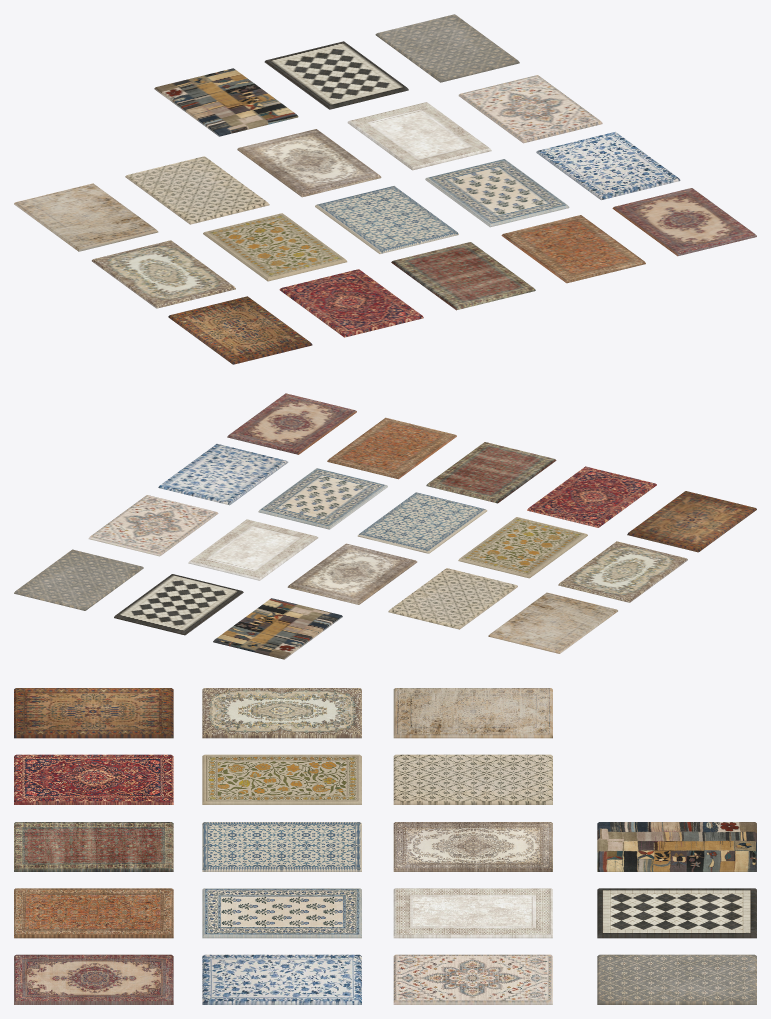
File: low-poly_psx_style_vintage_rugs_pack.glb
3 renders of one model, top to bottom at view 1: azimuth 30°, elevation 25°; view 2: azimuth 150°, elevation 25°; view 3: azimuth 270°, elevation 25°, orthographic. The views are drawn at different scales.
Parts seen in each view (by area): view 1: Vintage Rugs_001, Vintage Rugs_007, Vintage Rugs_011, Vintage Rugs_005, Vintage Rugs_015, Vintage Rugs_004, Vintage Rugs_014, Vintage Rugs_017, Vintage Rugs_018, Vintage Rugs_003, Vintage Rugs_006, Vintage Rugs_008 (+6 smaller); view 2: Vintage Rugs_009, Vintage Rugs_010, Vintage Rugs_002, Vintage Rugs_003, Vintage Rugs_011, Vintage Rugs_013, Vintage Rugs_016, Vintage Rugs_001, Vintage Rugs_004, Vintage Rugs_005, Vintage Rugs_007, Vintage Rugs_008 (+6 smaller); view 3: Vintage Rugs_002, Vintage Rugs_003, Vintage Rugs_007, Vintage Rugs_008, Vintage Rugs_016, Vintage Rugs_012, Vintage Rugs_013, Vintage Rugs_001, Vintage Rugs_005, Vintage Rugs_011, Vintage Rugs_015, Vintage Rugs_018 (+6 smaller).
Boxes of the visible parts, left/top/right/bottom form: Vintage Rugs_001: left=279, top=269, right=423, bottom=337; Vintage Rugs_007: left=91, top=240, right=235, bottom=308; Vintage Rugs_011: left=125, top=156, right=269, bottom=224; Vintage Rugs_005: left=612, top=188, right=756, bottom=256; Vintage Rugs_015: left=458, top=75, right=602, bottom=143; Vintage Rugs_004: left=391, top=242, right=535, bottom=310; Vintage Rugs_014: left=237, top=129, right=381, bottom=197; Vintage Rugs_017: left=154, top=68, right=298, bottom=136; Vintage Rugs_018: left=375, top=14, right=519, bottom=82; Vintage Rugs_003: left=501, top=215, right=645, bottom=283; Vintage Rugs_006: left=203, top=213, right=347, bottom=281; Vintage Rugs_008: left=425, top=159, right=569, bottom=227; Vintage Rugs_009: left=357, top=492, right=487, bottom=553; Vintage Rugs_010: left=158, top=444, right=288, bottom=505; Vintage Rugs_002: left=627, top=491, right=756, bottom=552; Vintage Rugs_003: left=327, top=417, right=456, bottom=479; Vintage Rugs_011: left=388, top=568, right=517, bottom=629; Vintage Rugs_013: left=188, top=519, right=318, bottom=580; Vintage Rugs_016: left=114, top=574, right=243, bottom=635; Vintage Rugs_001: left=527, top=466, right=656, bottom=527; Vintage Rugs_004: left=426, top=442, right=556, bottom=503; Vintage Rugs_005: left=227, top=393, right=356, bottom=454; Vintage Rugs_007: left=558, top=541, right=687, bottom=602; Vintage Rugs_008: left=258, top=468, right=387, bottom=529; Vintage Rugs_002: left=14, top=688, right=173, bottom=738; Vintage Rugs_003: left=14, top=888, right=173, bottom=938; Vintage Rugs_007: left=202, top=688, right=361, bottom=738; Vintage Rugs_008: left=202, top=888, right=361, bottom=938; Vintage Rugs_016: left=597, top=888, right=756, bottom=938; Vintage Rugs_012: left=393, top=688, right=552, bottom=738; Vintage Rugs_013: left=393, top=888, right=552, bottom=938; Vintage Rugs_001: left=14, top=754, right=173, bottom=804; Vintage Rugs_005: left=14, top=954, right=173, bottom=1004; Vintage Rugs_011: left=393, top=754, right=552, bottom=804; Vintage Rugs_015: left=393, top=954, right=552, bottom=1004; Vintage Rugs_018: left=597, top=954, right=756, bottom=1004.
Bounding box in the file's own units: 13.19 × 0.0597 × 13.17.
Materials: 1 (1 with a texture image).
